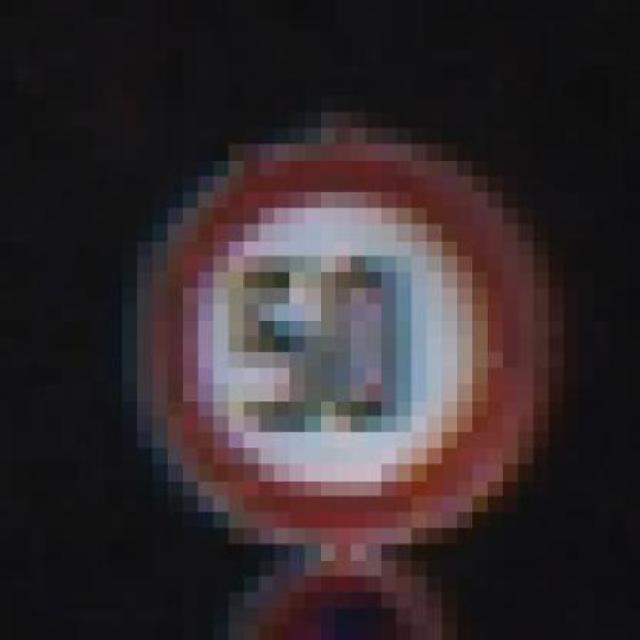50 mph speed limit: (107, 95, 564, 560)
